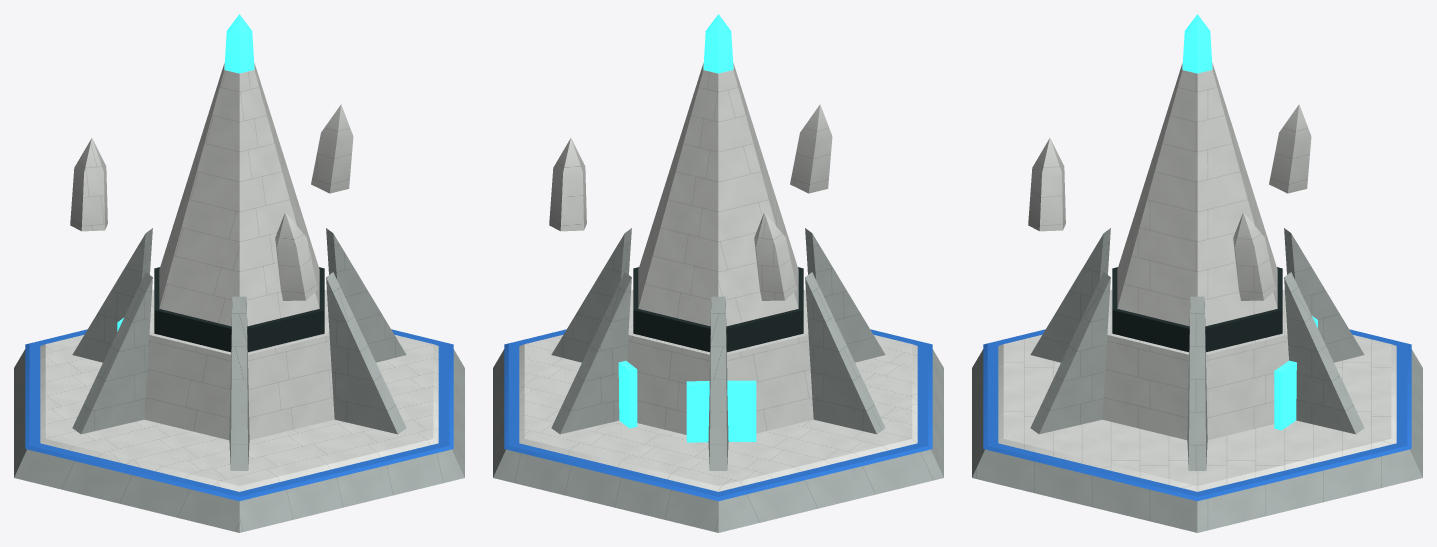
Rendered from energia_base.glb.
3 views of the same model, side by side, from view 1: azimuth 30°, elevation 25°; view 2: azimuth 150°, elevation 25°; view 3: azimuth 270°, elevation 25° (orthographic).
Visible parts, largest first — view 1: Body_Shell, Body_ShellAlt, Body_TeamColor, Shards_Shell, Body_Core, Body_Glow; view 2: Body_Shell, Body_ShellAlt, Body_TeamColor, Shards_Shell, Body_Glow, Body_Core; view 3: Body_Shell, Body_ShellAlt, Body_TeamColor, Shards_Shell, Body_Core, Body_Glow.
Boxes of the visible parts, left/top/right/bottom form: Body_Shell: left=40, top=63, right=438, bottom=491; Body_ShellAlt: left=14, top=228, right=464, bottom=532; Body_TeamColor: left=25, top=329, right=453, bottom=501; Shards_Shell: left=70, top=104, right=353, bottom=300; Body_Core: left=154, top=267, right=324, bottom=352; Body_Glow: left=117, top=14, right=254, bottom=331; Body_Shell: left=519, top=63, right=917, bottom=491; Body_ShellAlt: left=493, top=228, right=943, bottom=532; Body_TeamColor: left=504, top=329, right=932, bottom=501; Shards_Shell: left=549, top=104, right=832, bottom=300; Body_Glow: left=618, top=14, right=756, bottom=442; Body_Core: left=633, top=267, right=803, bottom=352; Body_Shell: left=998, top=63, right=1396, bottom=491; Body_ShellAlt: left=972, top=228, right=1422, bottom=532; Body_TeamColor: left=983, top=329, right=1411, bottom=501; Shards_Shell: left=1028, top=104, right=1311, bottom=300; Body_Core: left=1112, top=267, right=1282, bottom=352; Body_Glow: left=1182, top=14, right=1317, bottom=430.
Size of the model in its own units: 18 by 15.6 by 15.59.
5 materials, 2 textured.
